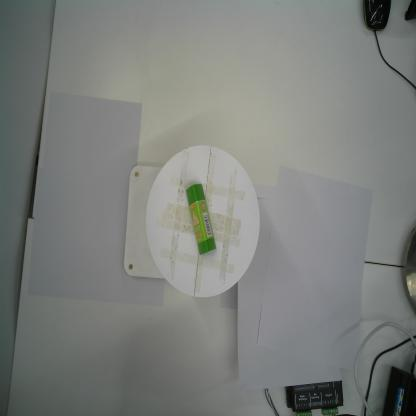Stationery: (184, 181, 216, 259)
